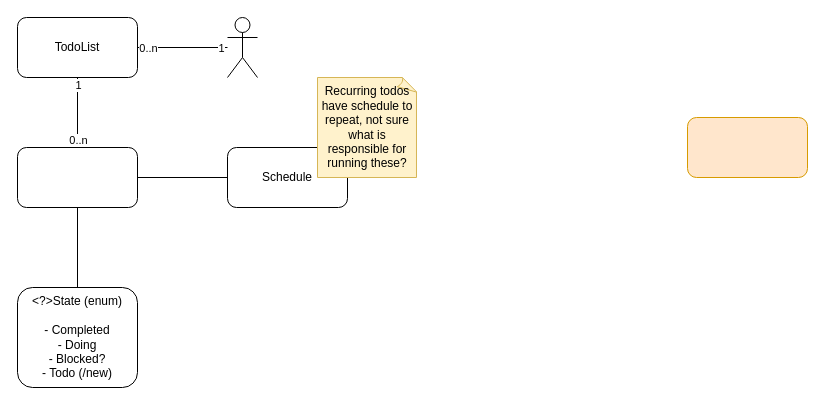
The diagram is 825 pixels wide and 405 high, and some of its shapes have lost their labels. Each missing label, with the centre of its shape:
"Todo" belongs at pixel 77 177.
"User" belongs at pixel 242 47.
